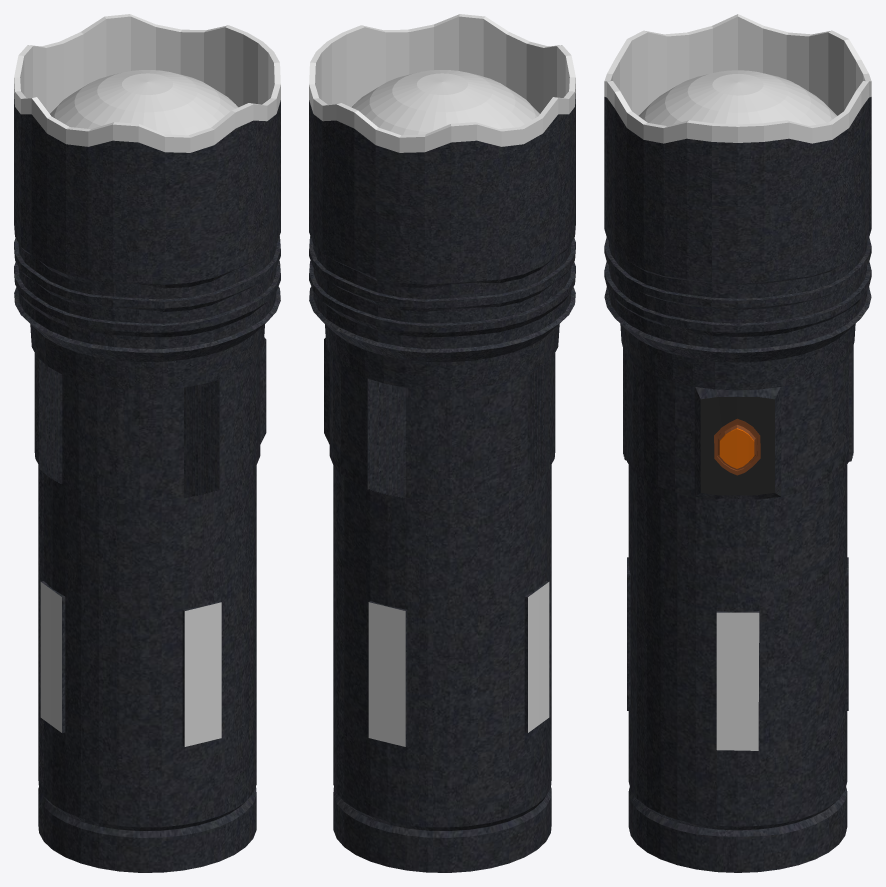
Rendered from flashlight.glb.
3 renders of one model, left to right at view 1: azimuth 30°, elevation 25°; view 2: azimuth 150°, elevation 25°; view 3: azimuth 270°, elevation 25°, orthographic.
Parts seen in each view (by area): view 1: Cylinder, Cylinder.001; view 2: Cylinder, Cylinder.001; view 3: Cylinder, Cylinder.001.
Part boxes in pixels (bbox=[...]): Cylinder: bbox=[34, 337, 266, 872]; Cylinder.001: bbox=[14, 14, 280, 389]; Cylinder: bbox=[324, 338, 555, 872]; Cylinder.001: bbox=[309, 14, 575, 389]; Cylinder: bbox=[623, 346, 853, 872]; Cylinder.001: bbox=[604, 14, 871, 390].
Bounding box in the file's own units: 2 × 6.25 × 2.
6 materials, 1 textured.
